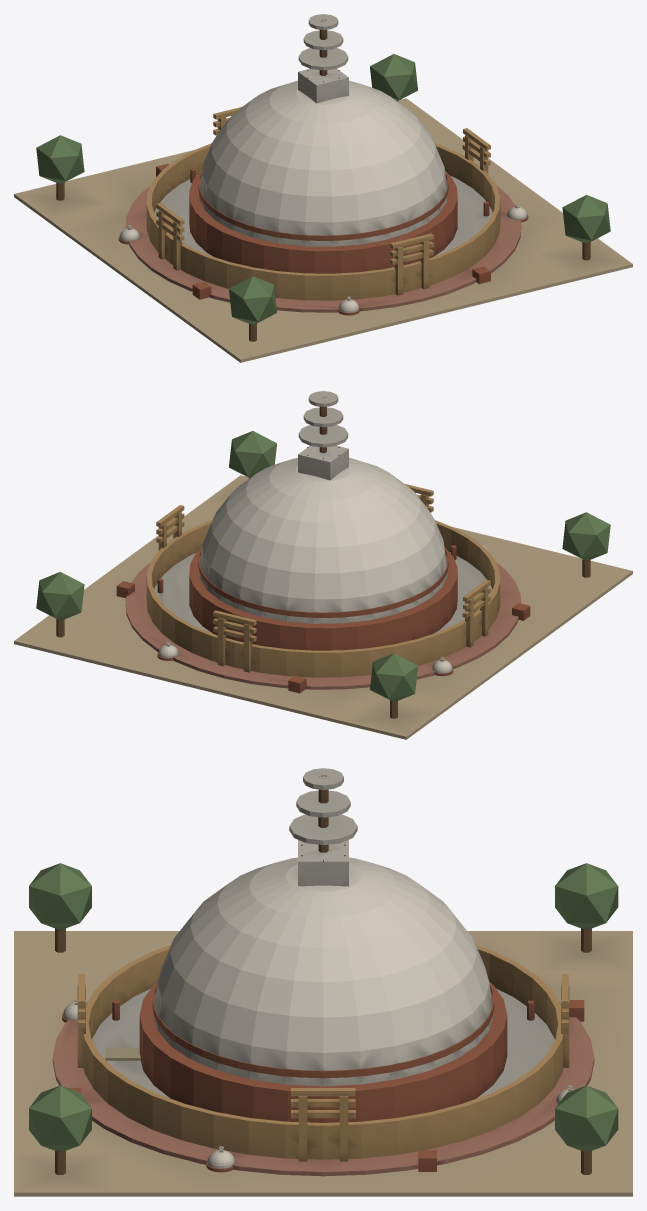
The model's file is ashoka-stupa.glb.
The picture shows the model from 3 angles, top to bottom: view 1: azimuth 30°, elevation 25°; view 2: azimuth 150°, elevation 25°; view 3: azimuth 270°, elevation 25°; orthographic projection. The views are drawn at different scales.
Parts seen in each view (by area): view 1: p1_dome and railing, p0_drum, p2_offerings; view 2: p1_dome and railing, p0_drum, p2_offerings; view 3: p1_dome and railing, p0_drum, p2_offerings.
Boxes of the visible parts, left/top/right/bottom form: p1_dome and railing: left=146, top=14, right=500, bottom=300; p0_drum: left=14, top=98, right=632, bottom=362; p2_offerings: left=36, top=54, right=610, bottom=341; p1_dome and railing: left=146, top=391, right=500, bottom=677; p0_drum: left=14, top=475, right=632, bottom=739; p2_offerings: left=36, top=431, right=610, bottom=718; p1_dome and railing: left=77, top=768, right=569, bottom=1161; p0_drum: left=14, top=931, right=632, bottom=1196; p2_offerings: left=29, top=844, right=618, bottom=1174.
Size of the model in its own units: 40 by 20.62 by 40.
